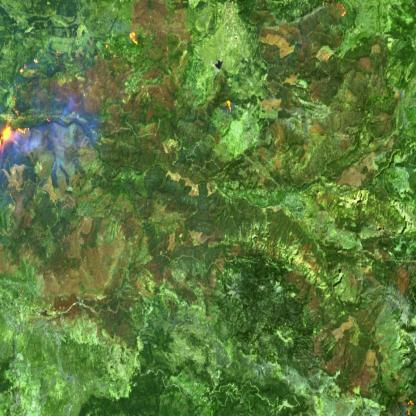fire: (0, 101, 39, 155), (120, 20, 148, 57), (221, 94, 240, 123)
